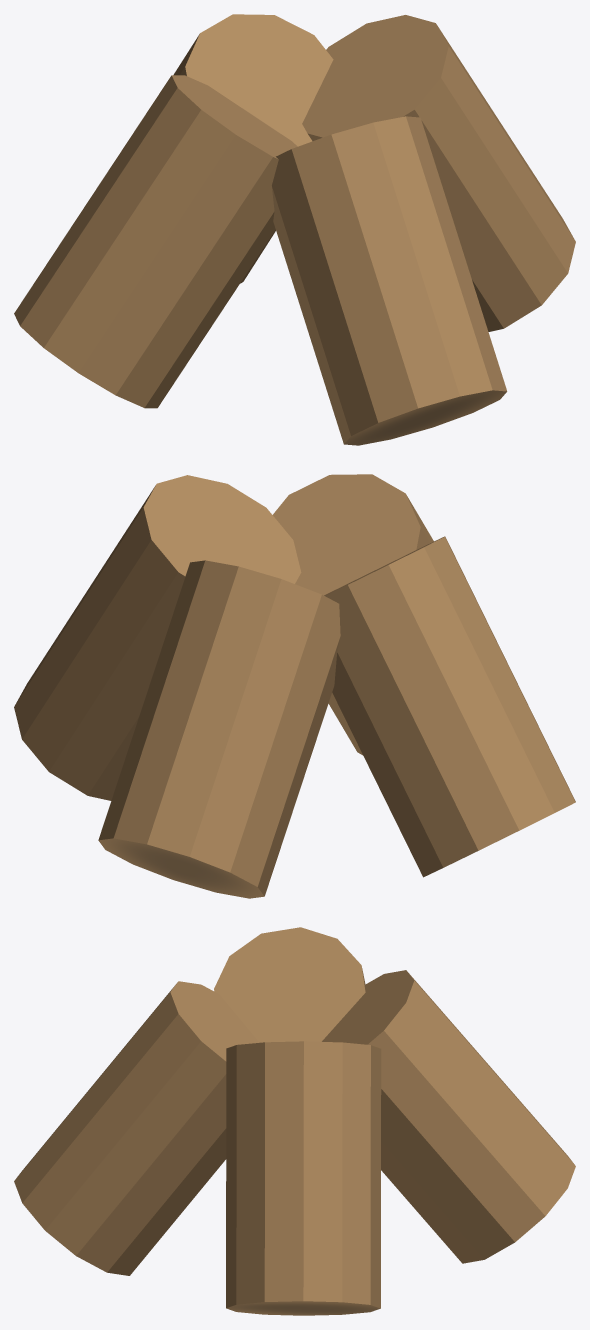
Rendered from treelogburned.fbx.
3 renders of one model, top to bottom at view 1: azimuth 30°, elevation 25°; view 2: azimuth 150°, elevation 25°; view 3: azimuth 270°, elevation 25°, orthographic. The views are drawn at different scales.
Visible parts, largest first — view 1: treelogburned; view 2: treelogburned; view 3: treelogburned.
Boxes of the visible parts, <box> form: treelogburned: <box>14,14,575,445</box>; treelogburned: <box>14,474,575,898</box>; treelogburned: <box>14,927,575,1315</box>.
Size of the model in its own units: 265 by 151 by 271.
Materials: 4 (4 with a texture image).
